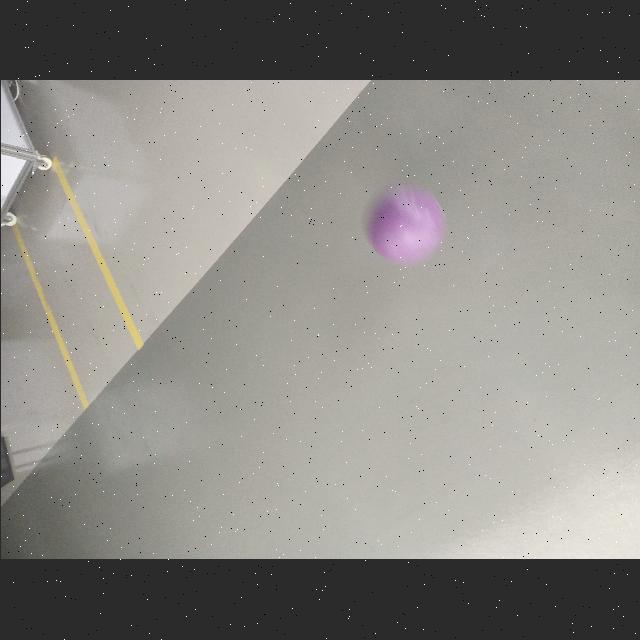P: (365, 187, 445, 265)
